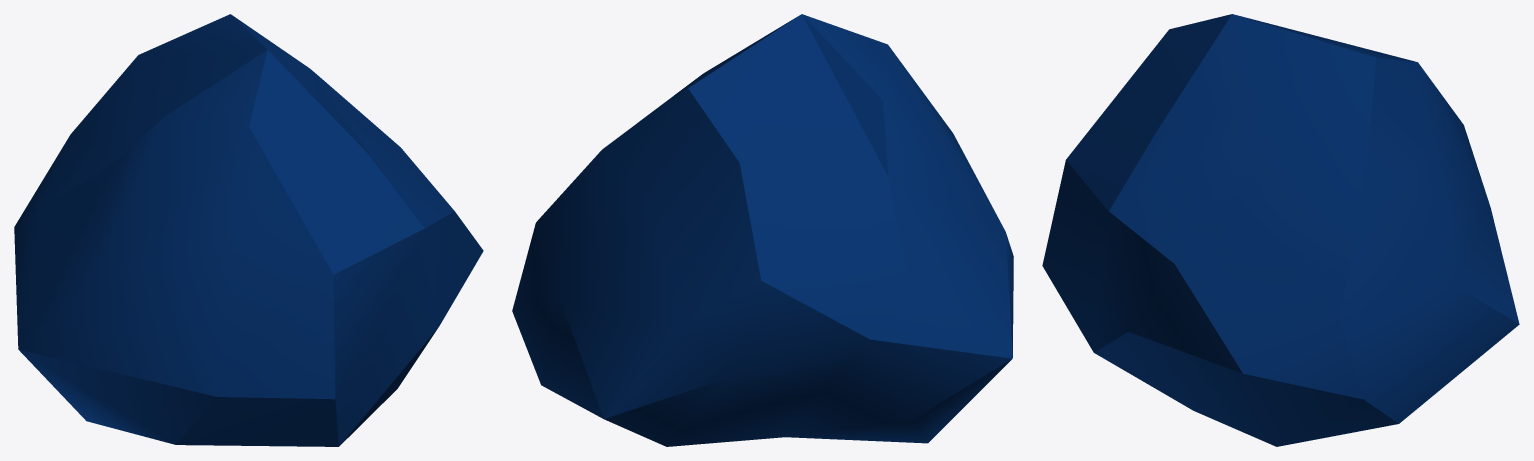
The model's file is Stone.fbx.
3 renders of one model, left to right at view 1: azimuth 30°, elevation 25°; view 2: azimuth 150°, elevation 25°; view 3: azimuth 270°, elevation 25°, orthographic. The views are drawn at different scales.
Parts seen in each view (by area): view 1: Stone; view 2: Stone; view 3: Stone.
Part boxes in pixels (x1,y1,x2,y2): Stone: (14,14,483,446); Stone: (512,14,1013,446); Stone: (1042,14,1519,446).
Bounding box in the file's own units: 112 × 92.35 × 105.
